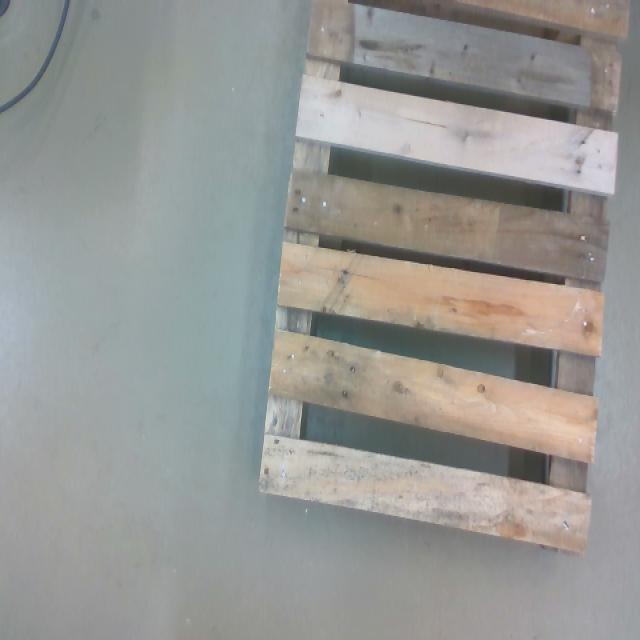pallet: (260, 0, 629, 560)
